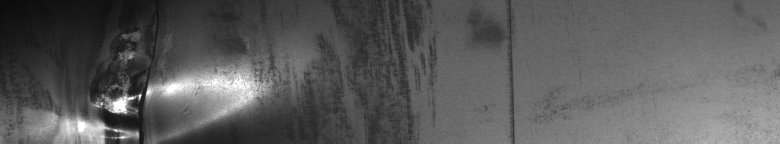ke: (57, 28, 227, 136)
